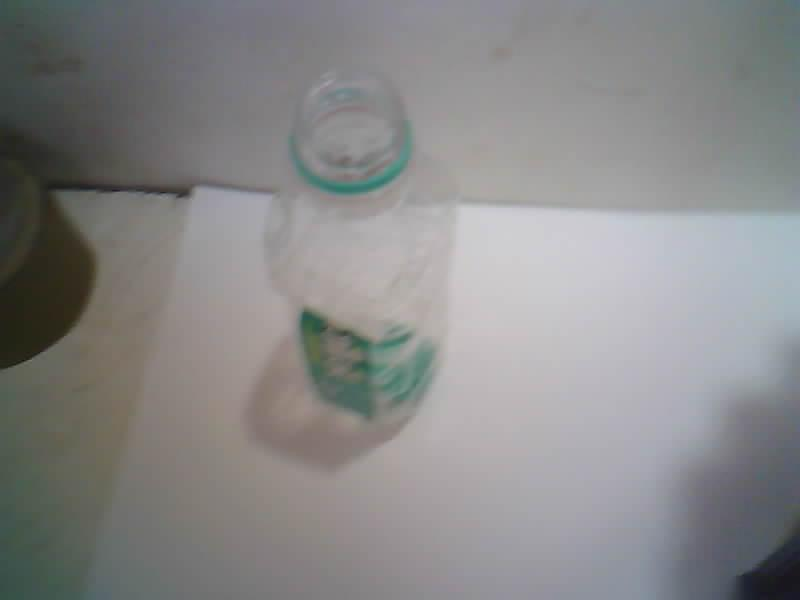non-biodegradable: (268, 71, 457, 420)
